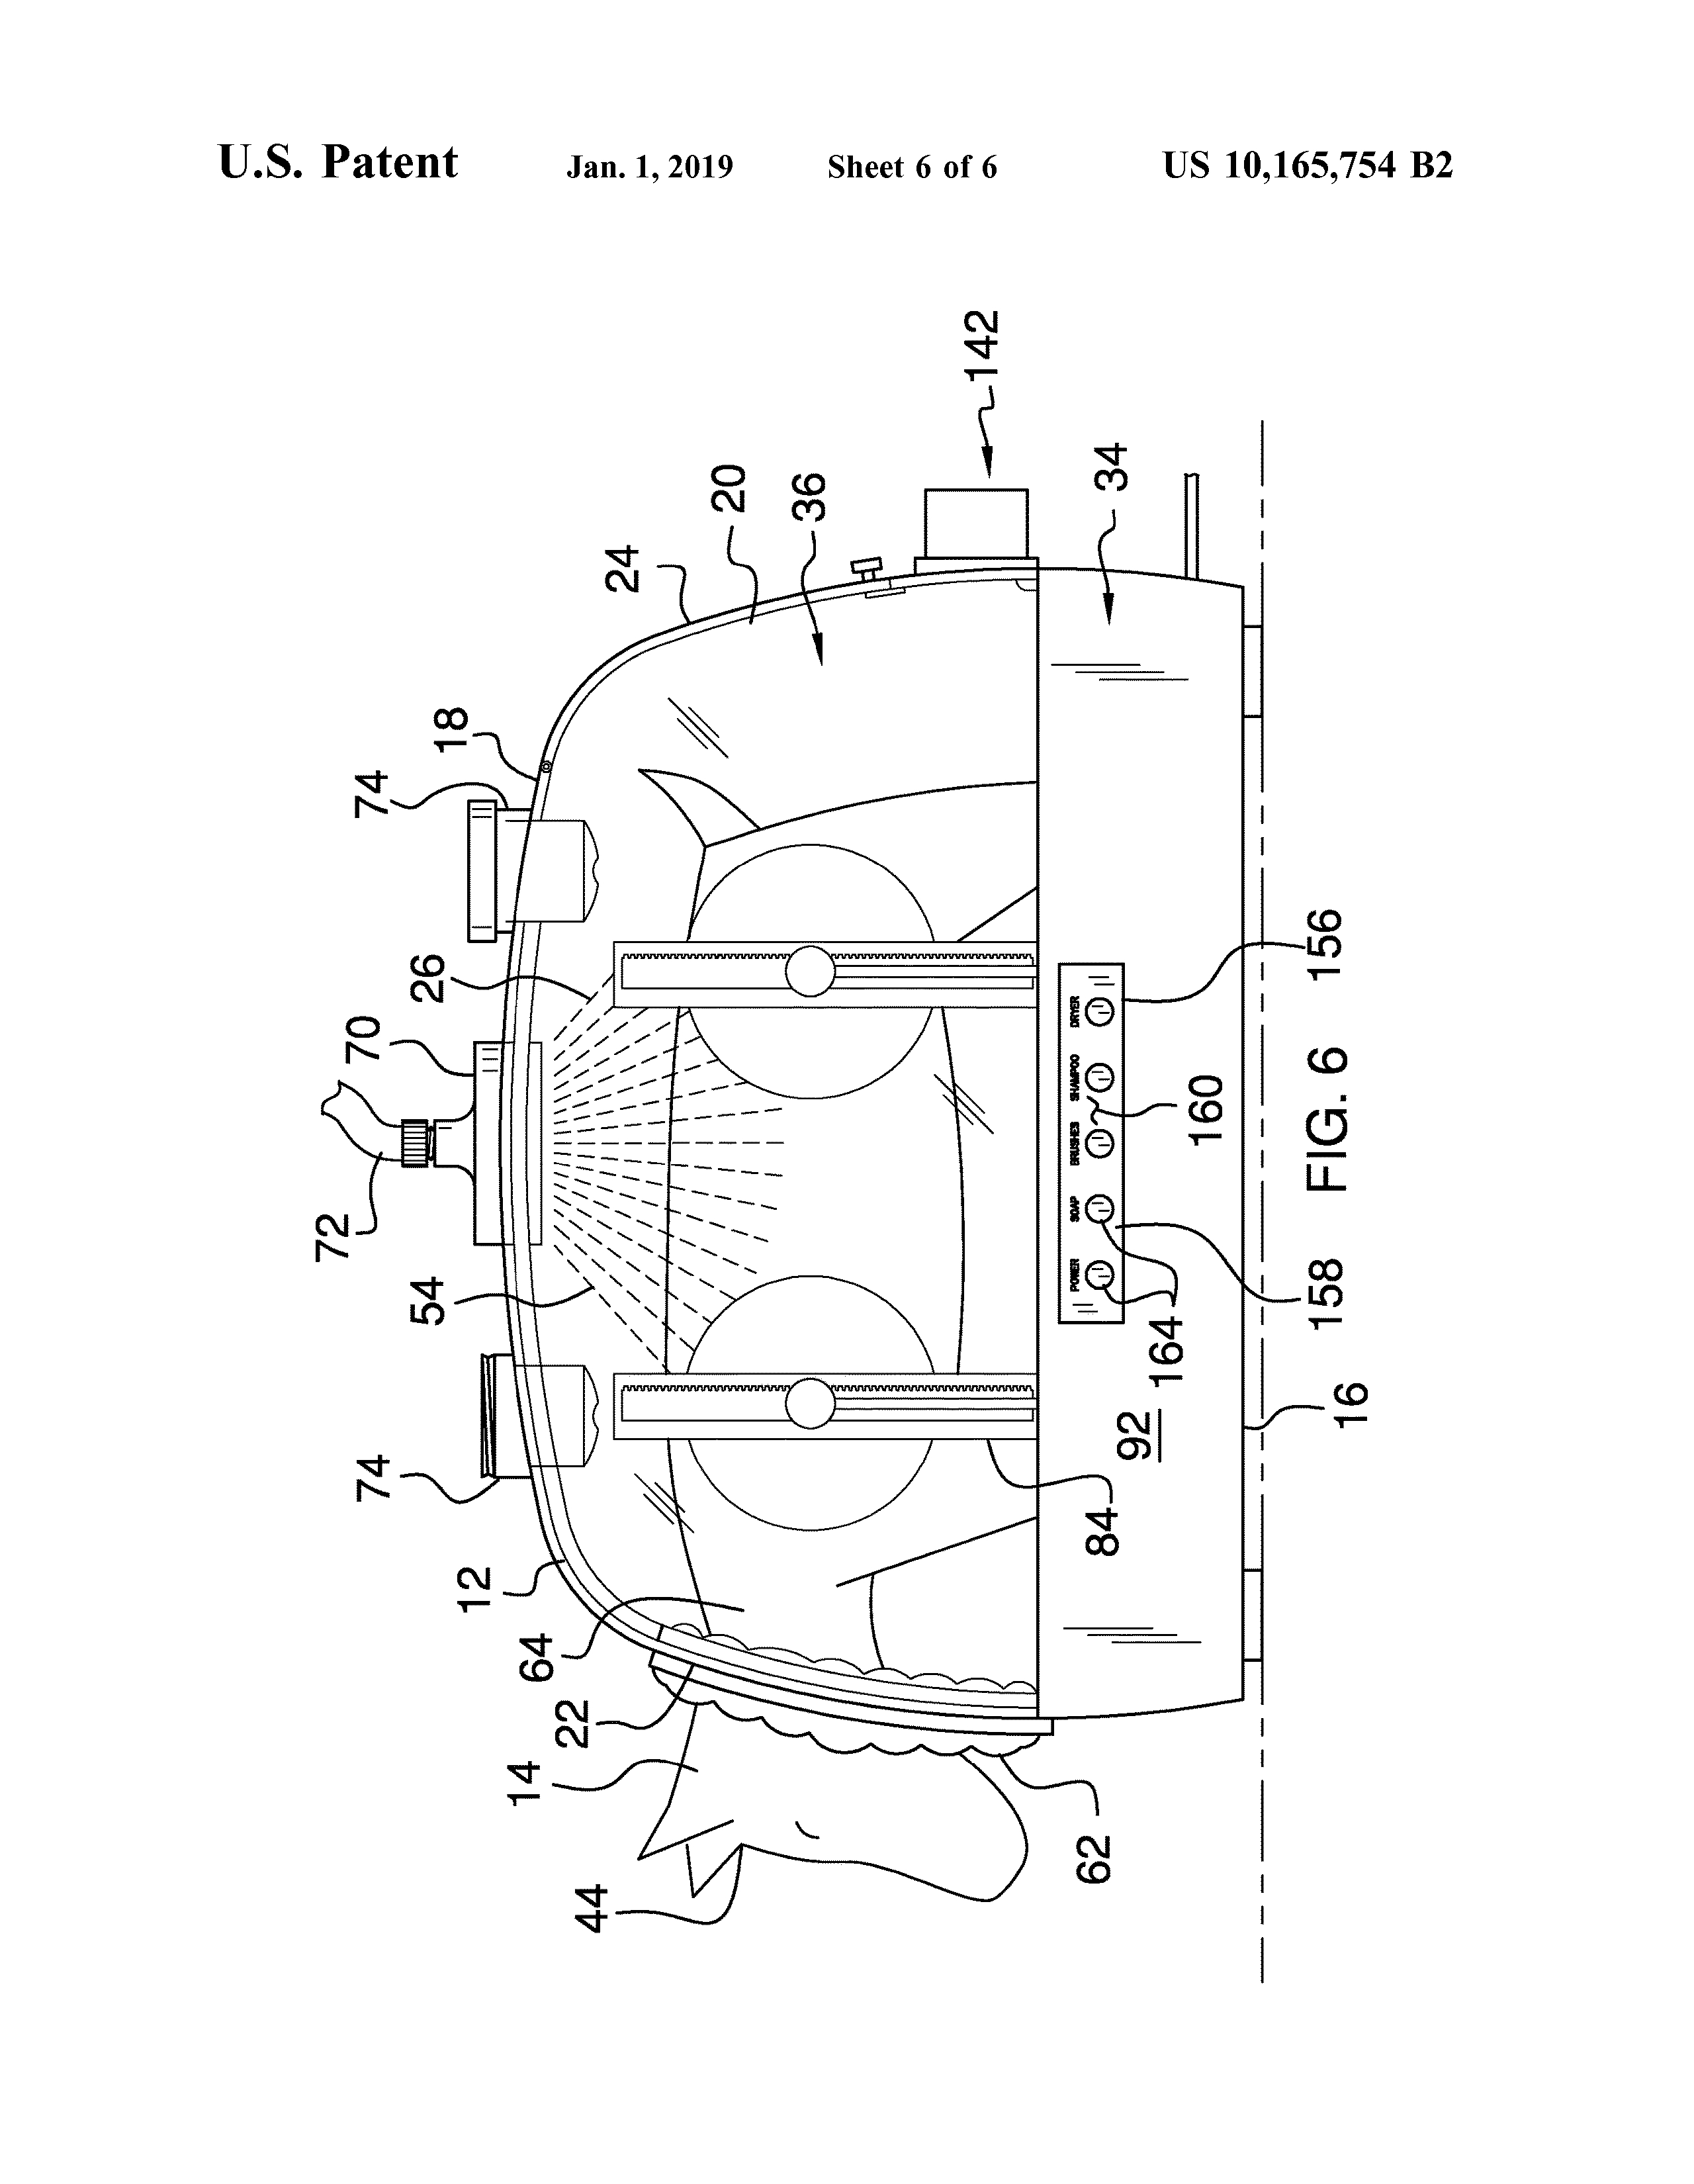patent image: (261, 287, 1474, 2099)
